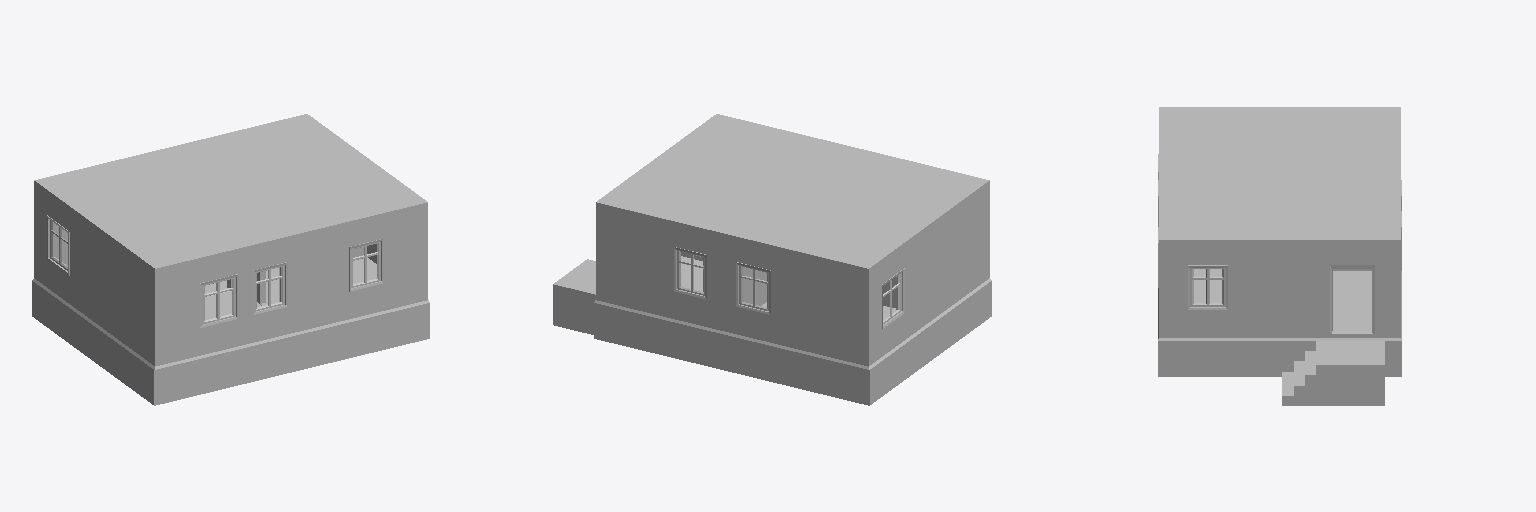
The model's file is House1.obj.
3 views of the same model, side by side, from view 1: azimuth 30°, elevation 25°; view 2: azimuth 150°, elevation 25°; view 3: azimuth 270°, elevation 25° (orthographic).
Parts seen in each view (by area): view 1: Cube.001_Cube; view 2: Cube.001_Cube; view 3: Cube.001_Cube.
Part boxes in pixels (left/top/right/bottom): Cube.001_Cube: left=32, top=114, right=429, bottom=405; Cube.001_Cube: left=553, top=114, right=991, bottom=405; Cube.001_Cube: left=1158, top=107, right=1401, bottom=405.
Bounding box in the file's own units: 2.6 × 1.08 × 1.69.